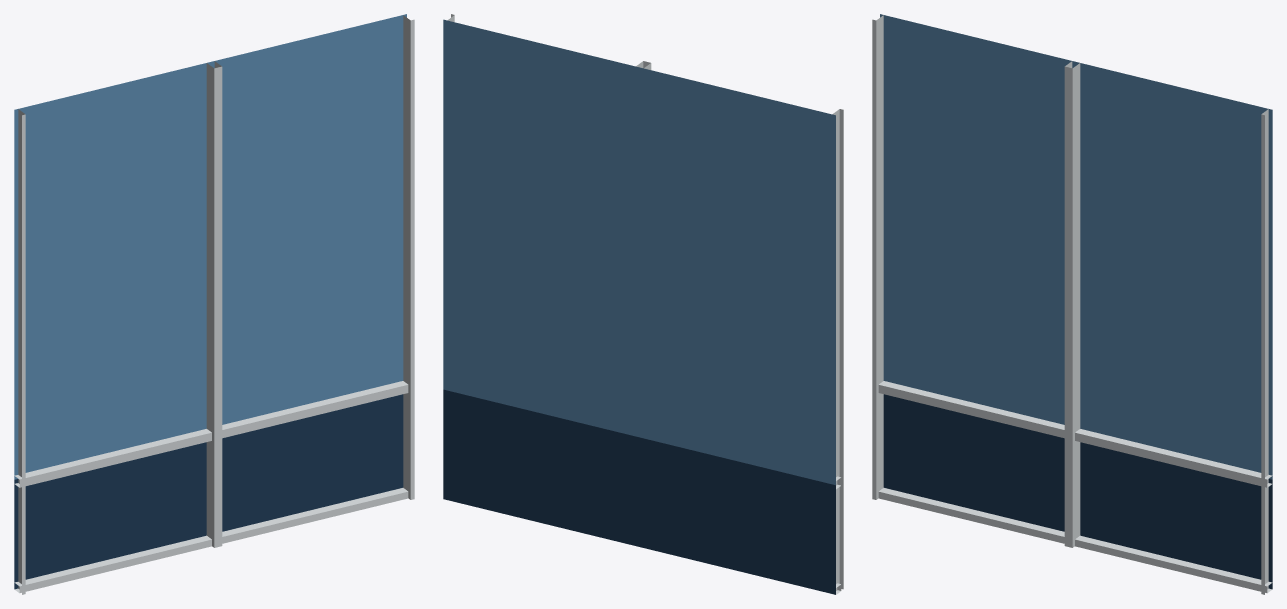
The model's file is mid-w1.fbx.
3 views of the same model, side by side, from view 1: azimuth 30°, elevation 25°; view 2: azimuth 150°, elevation 25°; view 3: azimuth 330°, elevation 25° (orthographic).
Parts seen in each view (by area): view 1: a2002/200/mid-w1; view 2: a2002/200/mid-w1; view 3: a2002/200/mid-w1.
Boxes of the visible parts, bbox=[...] form: a2002/200/mid-w1: bbox=[14, 14, 414, 594]; a2002/200/mid-w1: bbox=[443, 14, 843, 594]; a2002/200/mid-w1: bbox=[872, 14, 1272, 594].
Bounding box in the file's own units: 3 × 3.5 × 0.1.
